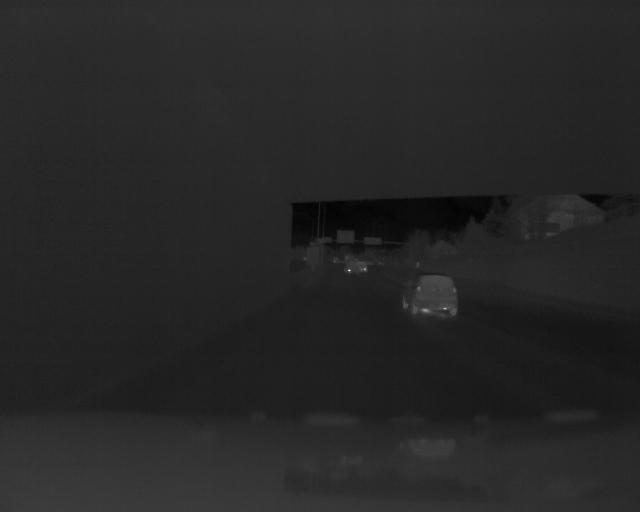car: (397, 272, 458, 316), (343, 259, 359, 275)
